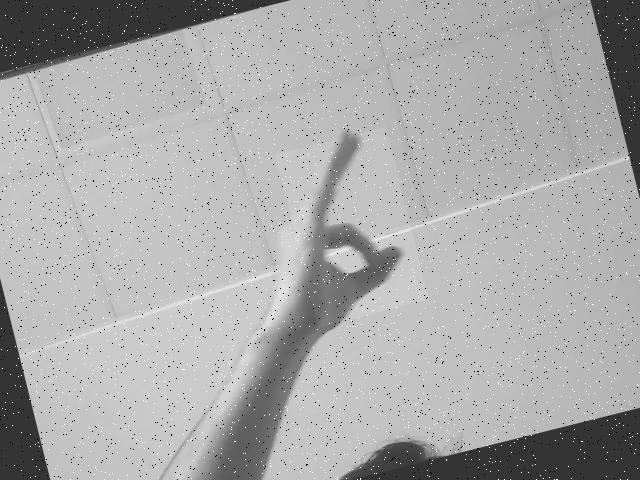OK: (275, 126, 429, 328)
